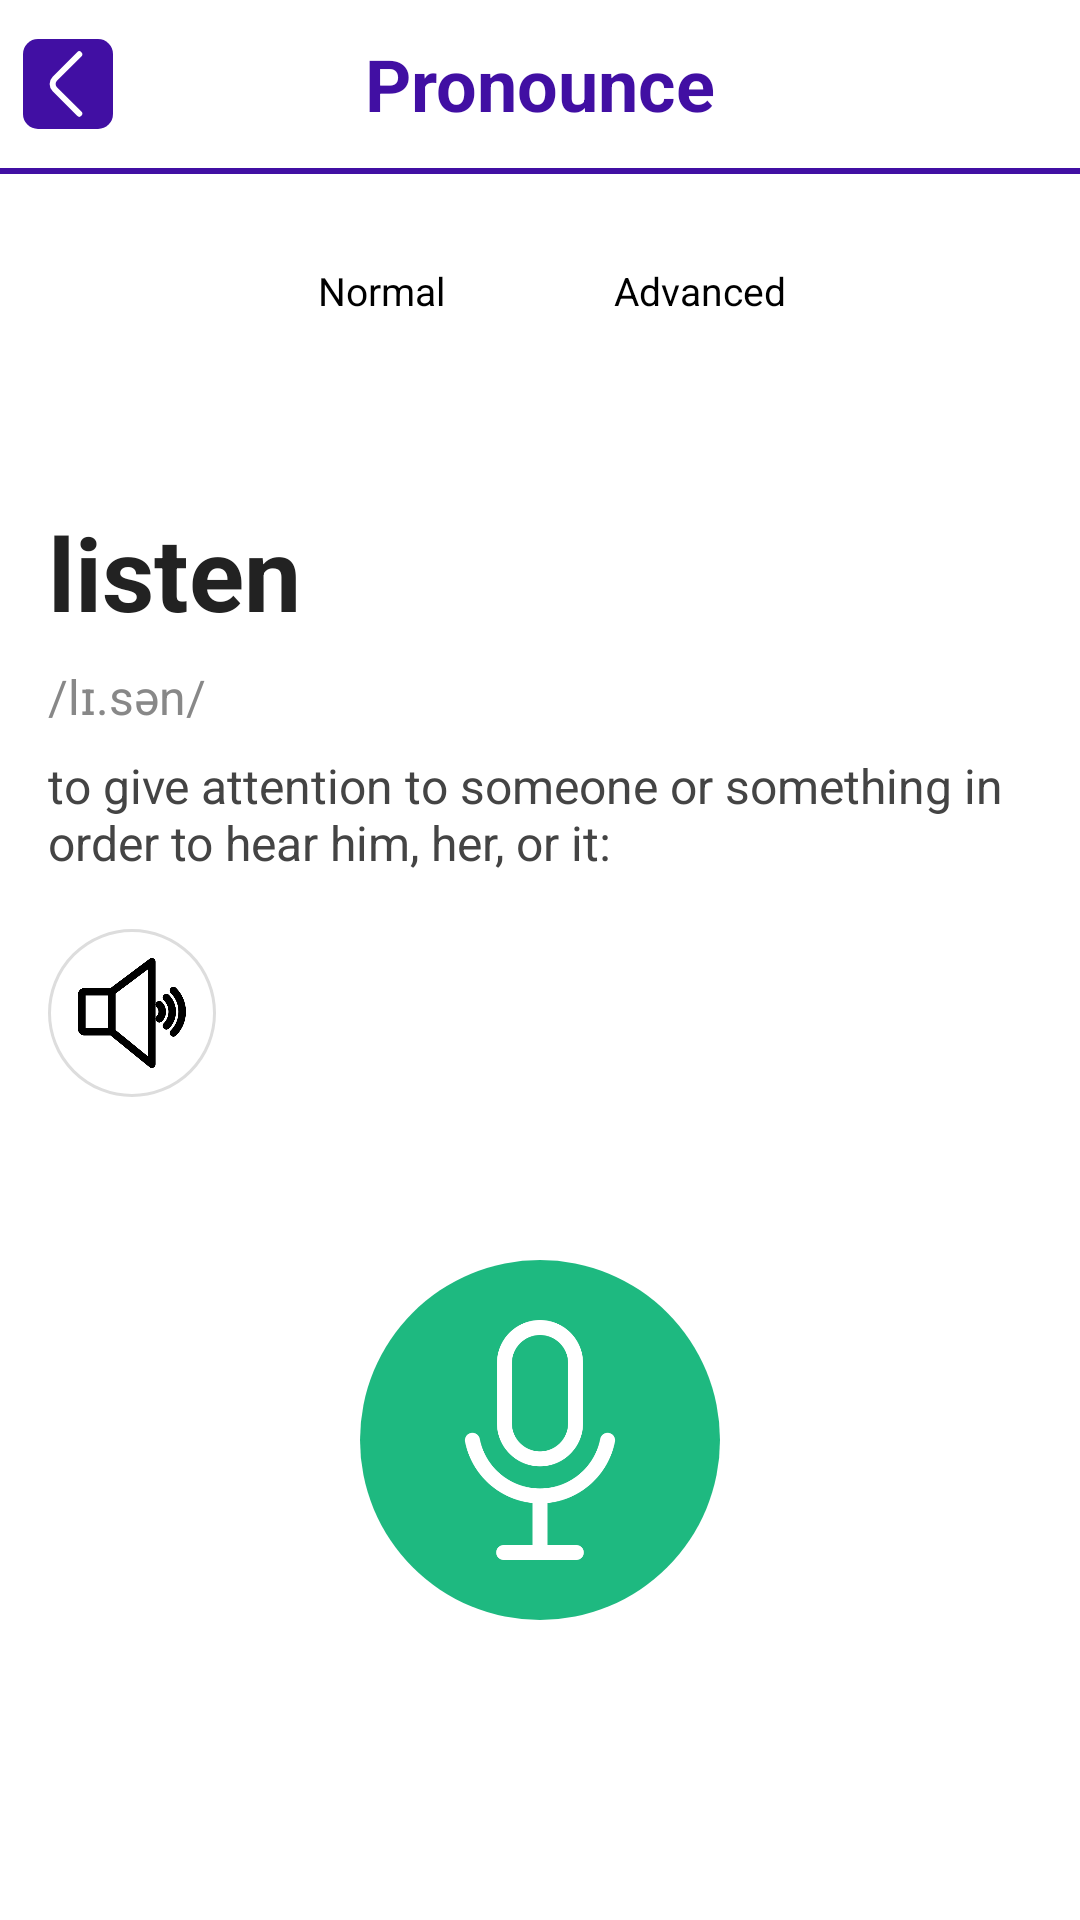

Named icons in this screenshot (1080w x 1920h) and their centers, point (x, y):
Back: point (68, 84)
Sound icon: point (132, 1013)
